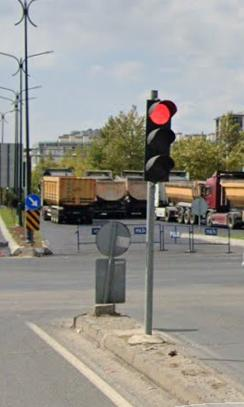redlight: (146, 94, 177, 179)
